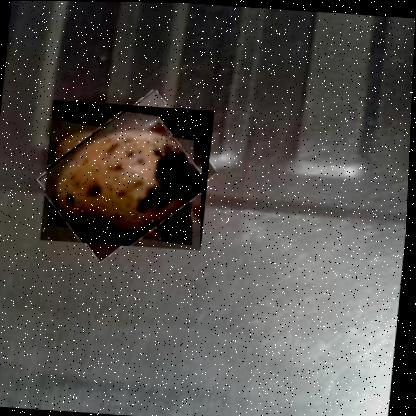mango_rotten: (42, 98, 216, 249)
